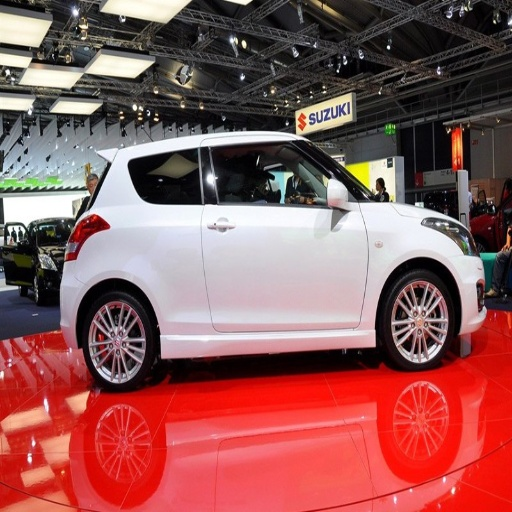back_right_door: (141, 144, 211, 331)
front_right_door: (205, 142, 369, 330)
